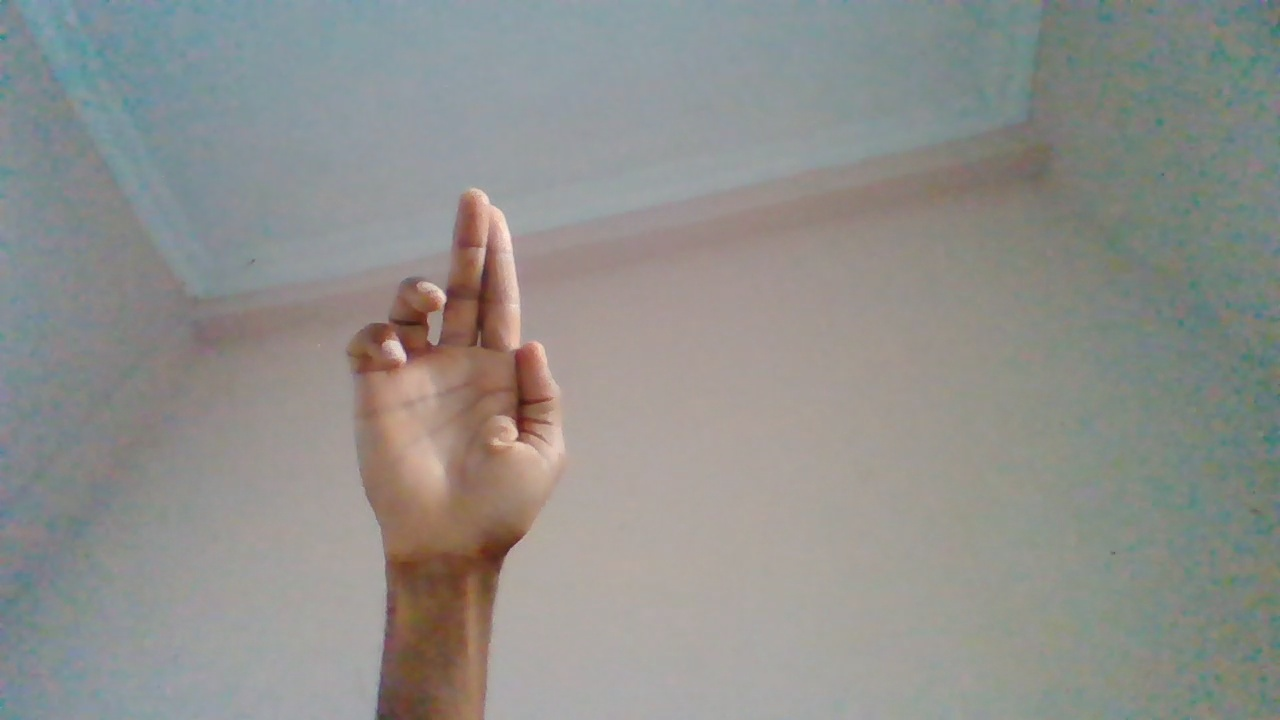gne: (344, 184, 571, 660)
